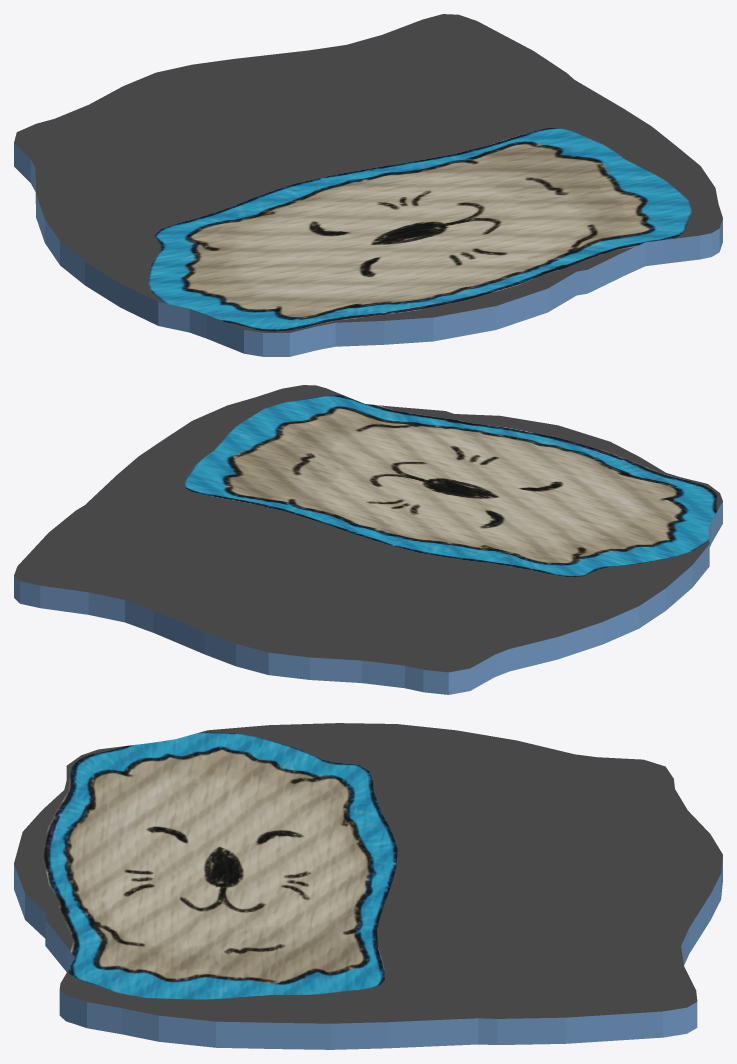
The model's file is LoutreNew.fbx.
3 renders of one model, top to bottom at view 1: azimuth 30°, elevation 25°; view 2: azimuth 150°, elevation 25°; view 3: azimuth 270°, elevation 25°, orthographic. The views are drawn at different scales.
Visible parts, largest first — view 1: Plane.018; view 2: Plane.018; view 3: Plane.018.
Boxes of the visible parts, x1,y1,x2,y2 form: Plane.018: (14, 14, 722, 356); Plane.018: (14, 385, 722, 694); Plane.018: (14, 723, 722, 1049).
Bounding box in the file's own units: 1312 × 53.25 × 1307.
